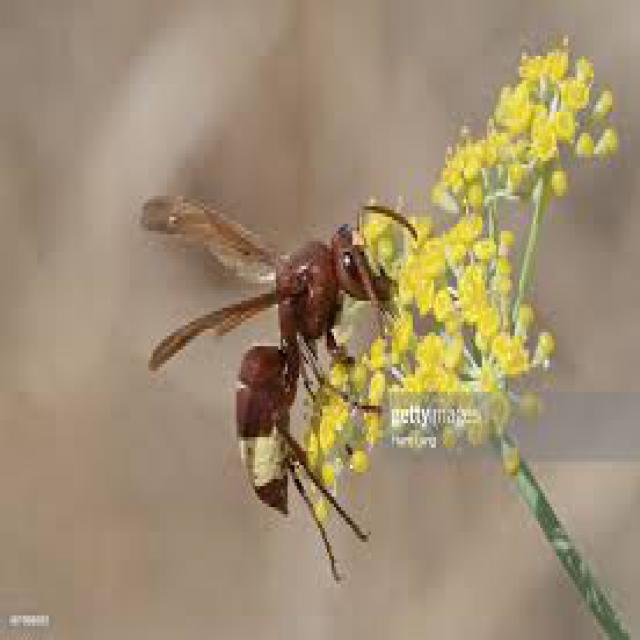Vespa Orientalis: (110, 155, 424, 597)
